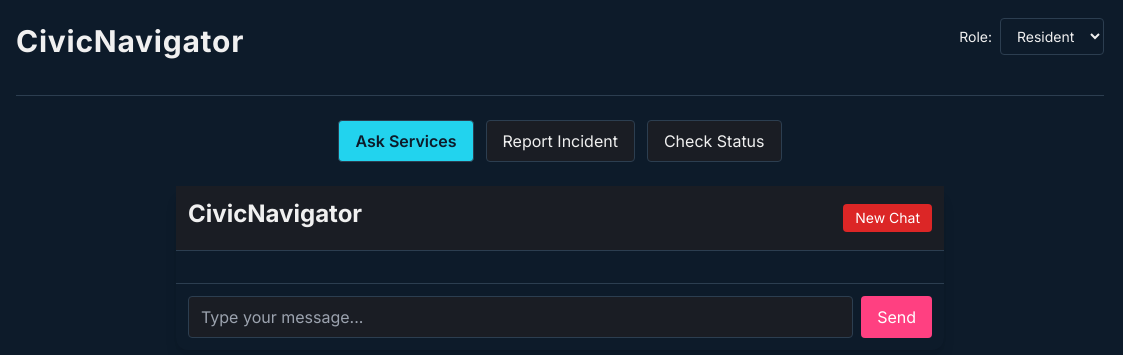
Scenario: CivicLayout › switches to staff role (logged out) and shows Staff Tools tab plus login/register
Select "Staff" in the dropdown labelled "Role:" at (1052, 36), box 1000,18 -> 1104,55
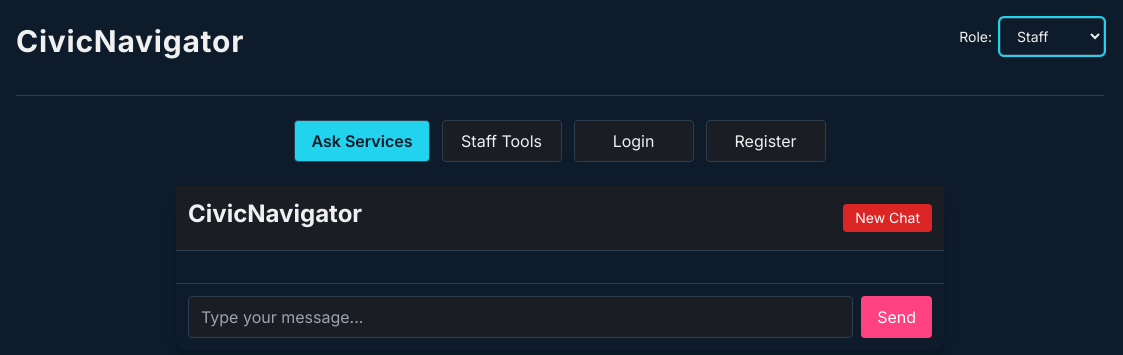
Check: the button "Staff Tools" is shown, box 442,120 -> 562,162
Check: the button "Login" is shown, box 574,120 -> 694,162
Check: the button "Register" is shown, box 706,120 -> 826,162
